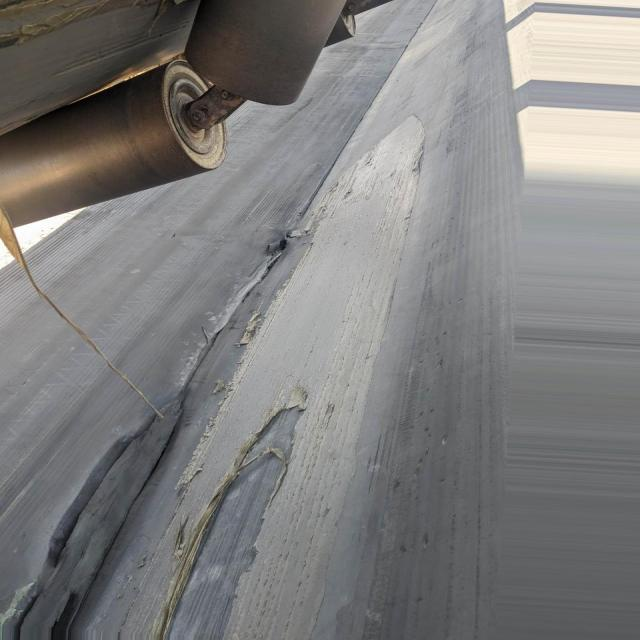Roller: (0, 57, 220, 237), (182, 0, 342, 98)
Tear: (30, 233, 312, 615), (164, 407, 302, 640)
